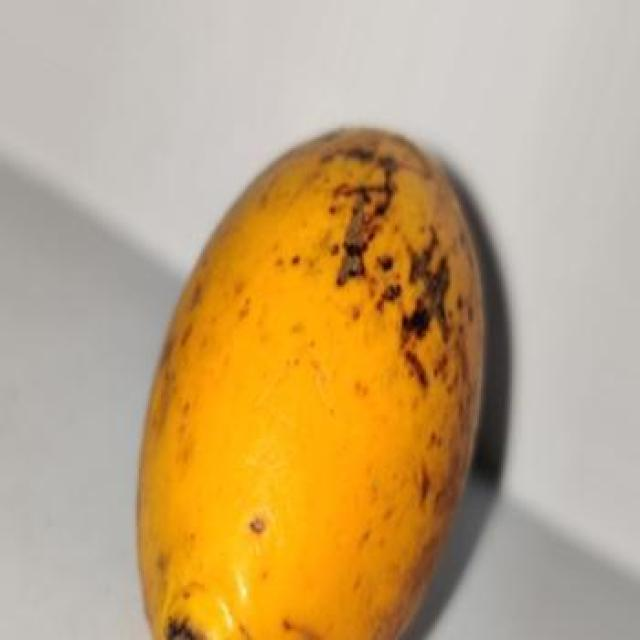good: (133, 126, 485, 638)
